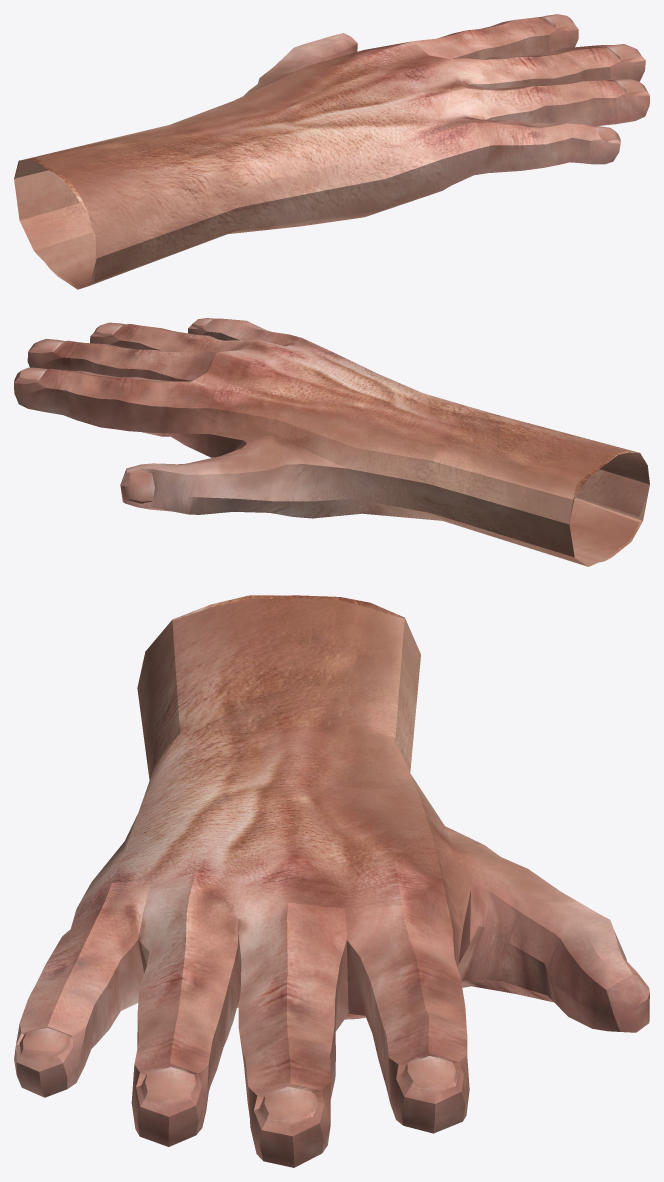
The model's file is hands.obj.
The picture shows the model from 3 angles, top to bottom: view 1: azimuth 30°, elevation 25°; view 2: azimuth 150°, elevation 25°; view 3: azimuth 270°, elevation 25°; orthographic projection. The views are drawn at different scales.
Visible parts, largest first — view 1: Cube_000_Cube_017_Detached; view 2: Cube_000_Cube_017_Detached; view 3: Cube_000_Cube_017_Detached.
Boxes of the visible parts, x1,y1,x2,y2 form: Cube_000_Cube_017_Detached: (14, 14, 649, 289); Cube_000_Cube_017_Detached: (14, 318, 649, 566); Cube_000_Cube_017_Detached: (14, 595, 649, 1167).
Size of the model in its own units: 0.2575 by 0.0487 by 0.1398.
1 material, 1 textured.
